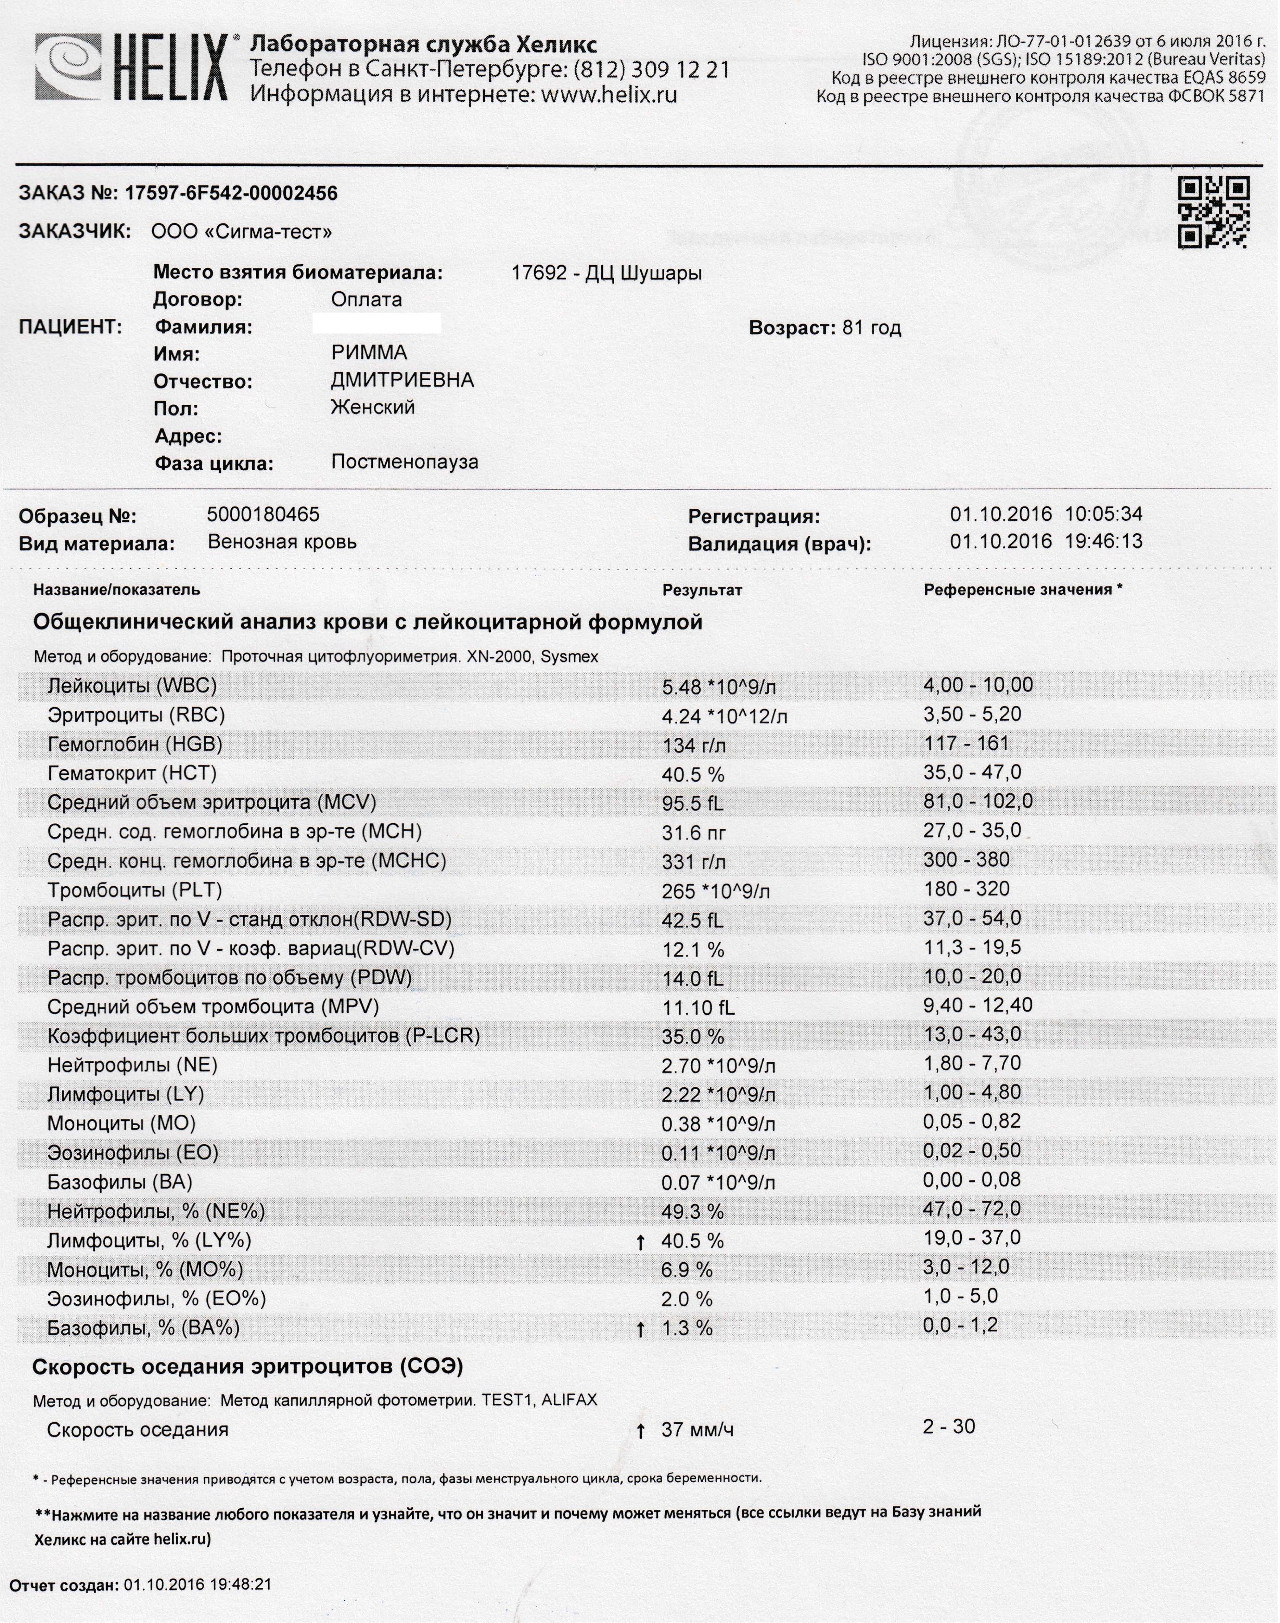column: (47, 676, 479, 1338), (661, 676, 787, 1338), (922, 676, 1032, 1338), (46, 1417, 229, 1439), (924, 582, 1111, 599), (33, 582, 200, 599), (661, 1417, 733, 1439), (662, 582, 743, 599), (922, 1417, 974, 1439)
